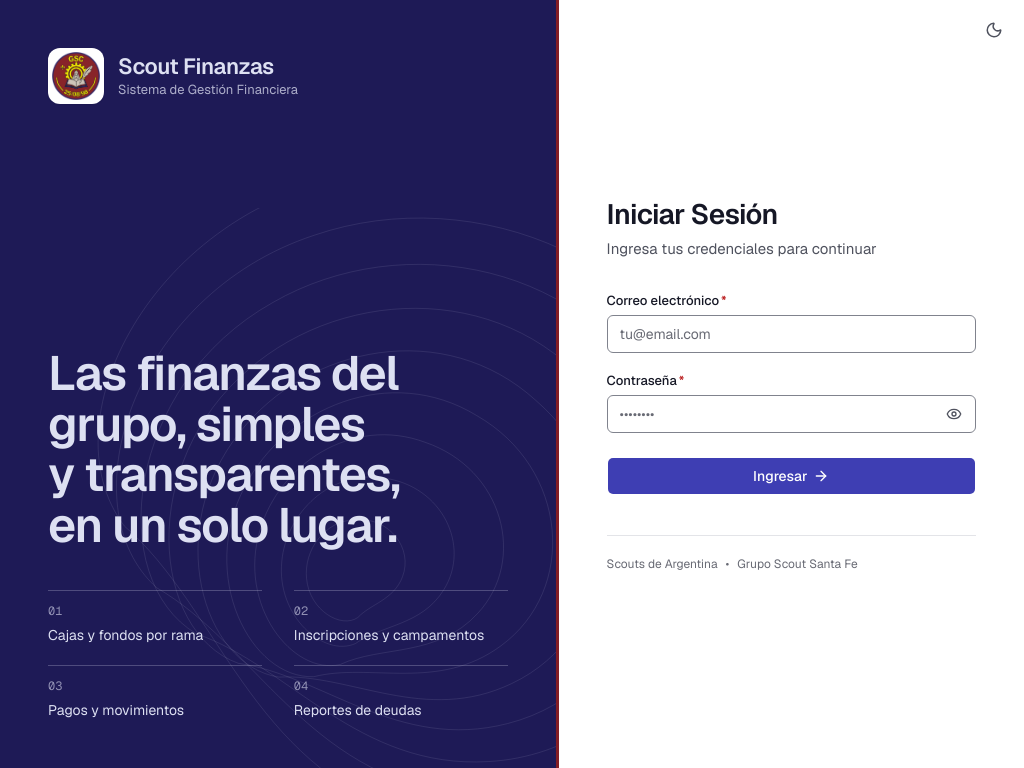
Scenario: LoginView › login 401 muestra el error inline
Type "ana@scout.com" into the field labelled "Correo electrónico*" at (791, 334), box [606,315,976,353]
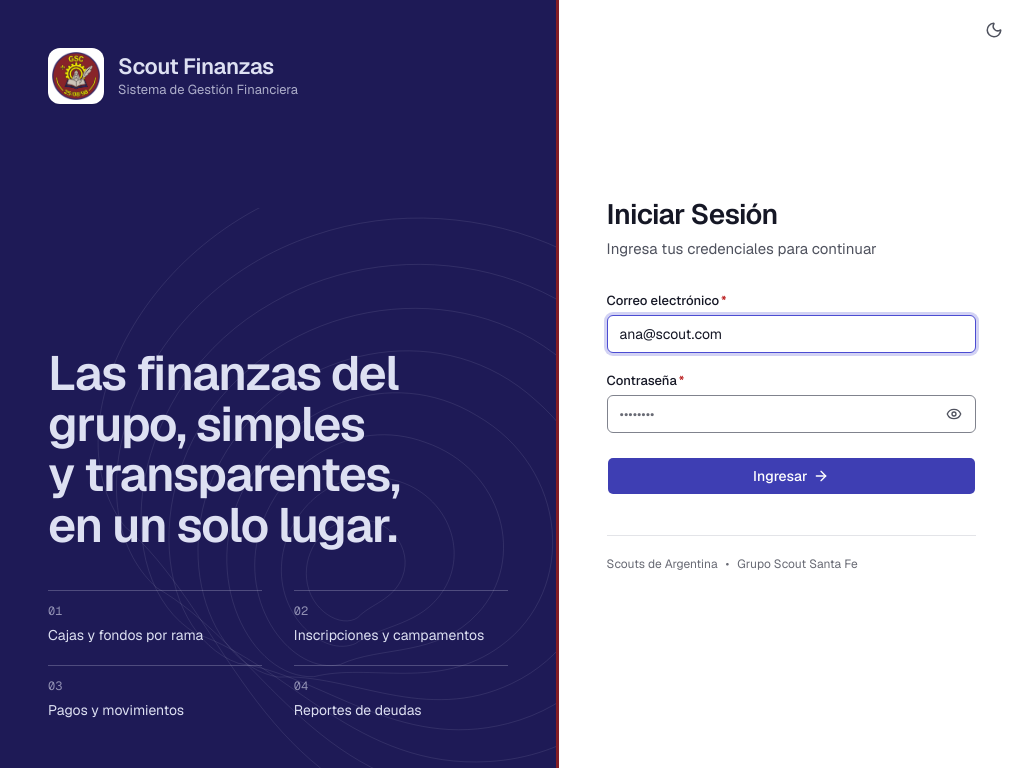
Type "secreto1" into the password field labelled "Contraseña*" at (791, 414), box [606,395,976,433]
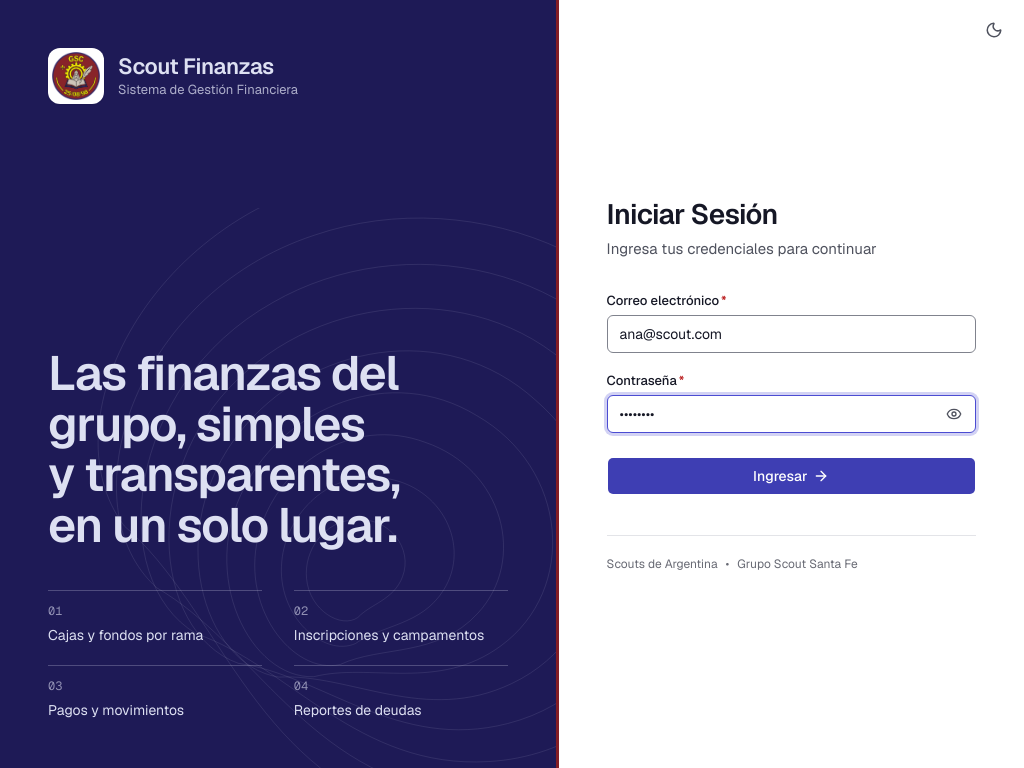
Click the button "Ingresar" at (791, 476), box [606,457,976,495]
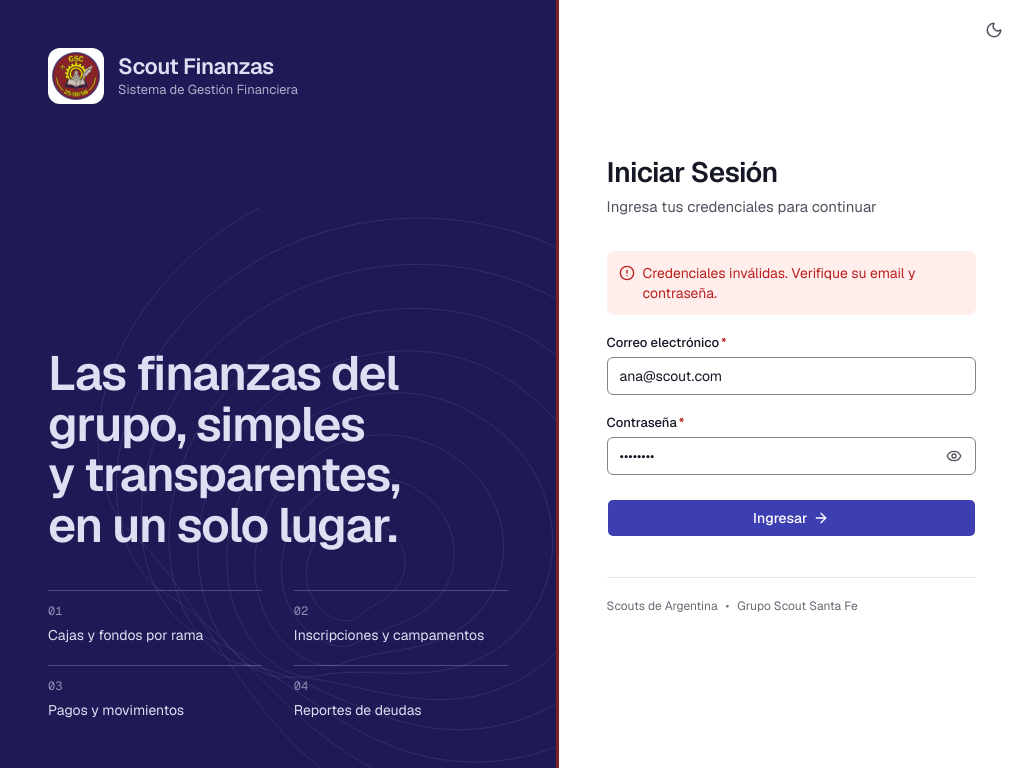
Check: the message shows "Credenciales inválidas", box [642,264,916,302]
